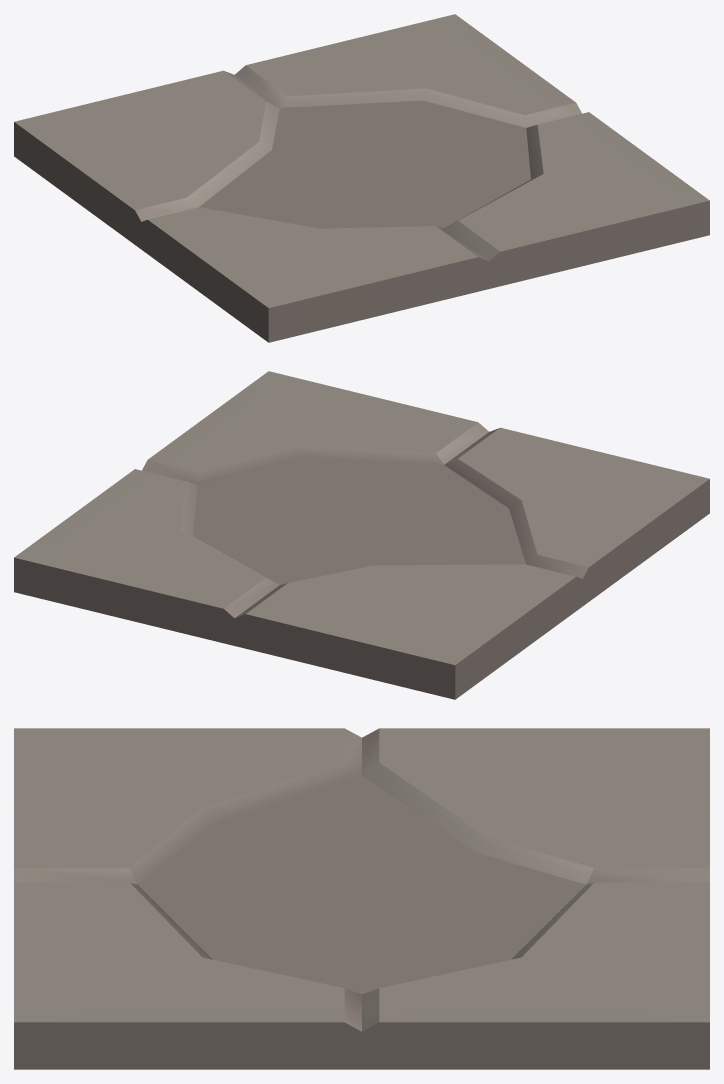
The model's file is floor-tile-small-broken-b-gltf.glb.
The picture shows the model from 3 angles, top to bottom: view 1: azimuth 30°, elevation 25°; view 2: azimuth 150°, elevation 25°; view 3: azimuth 270°, elevation 25°; orthographic projection. The views are drawn at different scales.
Parts seen in each view (by area): view 1: floor_tile_small_broken_B; view 2: floor_tile_small_broken_B; view 3: floor_tile_small_broken_B.
Boxes of the visible parts, <box> form: floor_tile_small_broken_B: <box>14,14,709,342</box>; floor_tile_small_broken_B: <box>14,371,709,699</box>; floor_tile_small_broken_B: <box>14,728,709,1069</box>.
Size of the model in its own units: 2 by 0.1499 by 2.
Materials: 1 (1 with a texture image).
